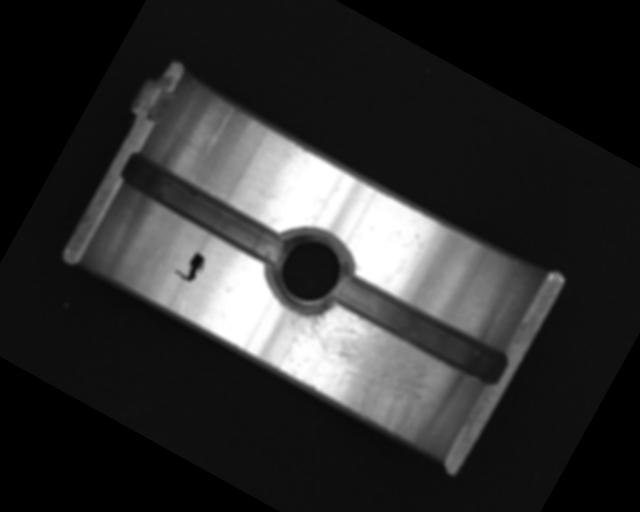blot: (173, 246, 209, 287)
gap: (329, 267, 512, 391), (116, 150, 289, 267)
hole: (253, 219, 361, 326)
nick: (201, 107, 236, 157)
scratch: (260, 284, 459, 446)
